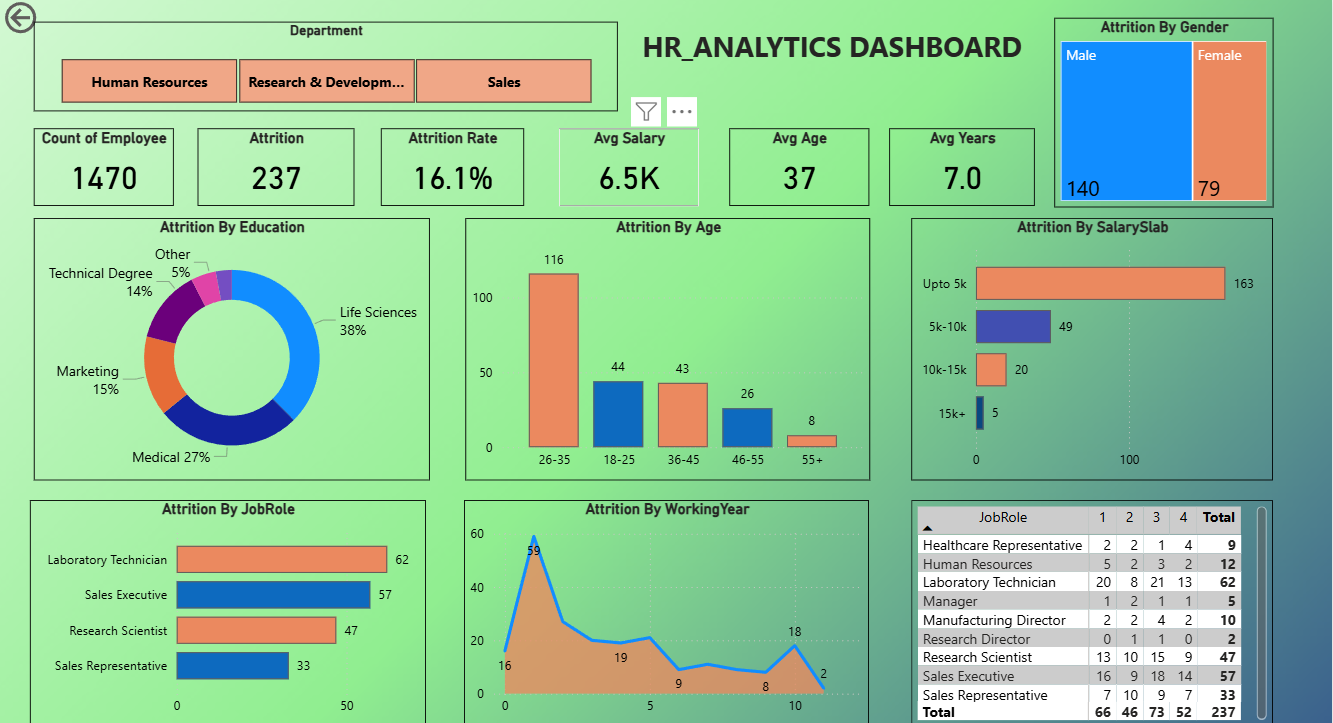

The page's visual inventory and layout, read from the dashboard file:
{"tool":"powerbi","page":{"name":"Page 1","canvas":[1280,720],"ordinal":0},"visuals":[{"type":"card","title":"Count of Employee","fields":{"Values":["CountNonNull(HR_Analytics.EmpID)"]},"box":[32.8,126.9,134.3,74.6],"z":0},{"type":"card","title":"Attrition","fields":{"Values":["Sum(HR_Analytics.AttritionCount)"]},"box":[189.6,126.9,150.7,74.6],"z":1000},{"type":"card","title":"Avg Salary","fields":{"Values":["Avg(HR_Analytics.MonthlyIncome)"]},"box":[537.3,126.9,134.3,74.6],"z":2000},{"type":"card","title":"Attrition Rate","fields":{"Values":["HR_Analytics.AttritionRate"]},"box":[365.7,126.9,137.3,74.6],"z":3000},{"type":"card","title":"Avg Age","fields":{"Values":["Avg(HR_Analytics.Age)"]},"box":[701.5,126.9,134.3,74.6],"z":4000},{"type":"card","title":"Avg Years","fields":{"Values":["Avg(HR_Analytics.YearsAtCompany)"]},"box":[855.2,126.9,140.3,74.6],"z":5000},{"type":"donutChart","title":"Attrition By Education","fields":{"Category":["HR_Analytics.EducationField"],"Y":["Sum(HR_Analytics.AttritionCount)"]},"box":[32.8,211.9,380.6,252.2],"z":6000},{"type":"columnChart","title":"Attrition By Age","fields":{"Category":["HR_Analytics.AgeGroup"],"Y":["Sum(HR_Analytics.AttritionCount)"]},"box":[447.8,211.9,389.6,252.2],"z":7000},{"type":"pivotTable","fields":{"Rows":["HR_Analytics.JobRole"],"Columns":["HR_Analytics.JobSatisfaction"],"Values":["Sum(HR_Analytics.AttritionCount)"]},"box":[876.1,483.6,347.8,217.9],"z":8000},{"type":"actionButton","box":[0,0,100,40],"z":9000},{"type":"barChart","title":"Attrition By SalarySlab","fields":{"Category":["HR_Analytics.SalarySlab"],"Y":["Sum(HR_Analytics.AttritionCount)"]},"box":[876.1,211.9,347.8,252.2],"z":10000},{"type":"barChart","title":"Attrition By JobRole","fields":{"Category":["HR_Analytics.JobRole"],"Y":["Sum(HR_Analytics.AttritionCount)"]},"box":[28.4,483.6,380.6,217.9],"z":11000},{"type":"areaChart","title":"Attrition By WorkingYear","fields":{"Category":["HR_Analytics.YearsAtCompany"],"Y":["Sum(HR_Analytics.AttritionCount)"]},"box":[446.3,483.6,389.6,217.9],"z":12000},{"type":"treemap","title":"Attrition By Gender","fields":{"Group":["HR_Analytics.Gender"],"Values":["Sum(HR_Analytics.AttritionCount)"]},"box":[1013.4,19.4,210.4,182.1],"z":13000},{"type":"slicer","title":"Department","fields":{"Values":["HR_Analytics.Department"]},"box":[32.5,23.8,572.5,86.2],"z":14000},{"type":"textbox","box":[605,23.8,390,86.2],"z":14001}]}

Visuals, with their boxes in screenshot pixels (x1, y1, x2, y2):
"Count of Employee" card: (x1=41, y1=130, x2=178, y2=207)
"Attrition" card: (x1=201, y1=130, x2=356, y2=207)
"Avg Salary" card: (x1=558, y1=130, x2=696, y2=207)
"Attrition Rate" card: (x1=382, y1=130, x2=523, y2=207)
"Avg Age" card: (x1=726, y1=130, x2=864, y2=207)
"Avg Years" card: (x1=884, y1=130, x2=1028, y2=207)
"Attrition By Education" donutChart: (x1=41, y1=217, x2=431, y2=476)
"Attrition By Age" columnChart: (x1=466, y1=217, x2=866, y2=476)
pivotTable - HR_Analytics.JobRole x HR_Analytics.JobSatisfaction: (x1=905, y1=496, x2=1262, y2=719)
actionButton: (x1=7, y1=0, x2=109, y2=41)
"Attrition By SalarySlab" barChart: (x1=905, y1=217, x2=1262, y2=476)
"Attrition By JobRole" barChart: (x1=36, y1=496, x2=426, y2=719)
"Attrition By WorkingYear" areaChart: (x1=465, y1=496, x2=864, y2=719)
"Attrition By Gender" treemap: (x1=1046, y1=20, x2=1262, y2=207)
"Department" slicer: (x1=40, y1=24, x2=627, y2=113)
textbox: (x1=627, y1=24, x2=1027, y2=113)
